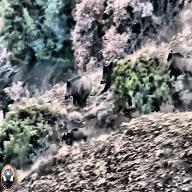boar: (64, 63, 96, 102), (166, 45, 192, 82), (100, 56, 118, 95)
